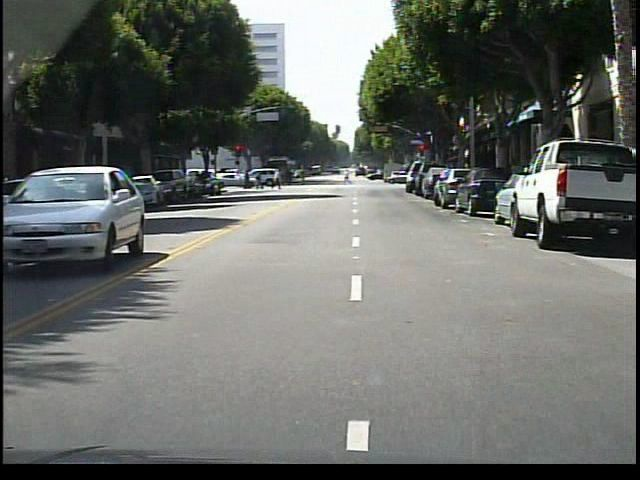person: (269, 165, 289, 195)
